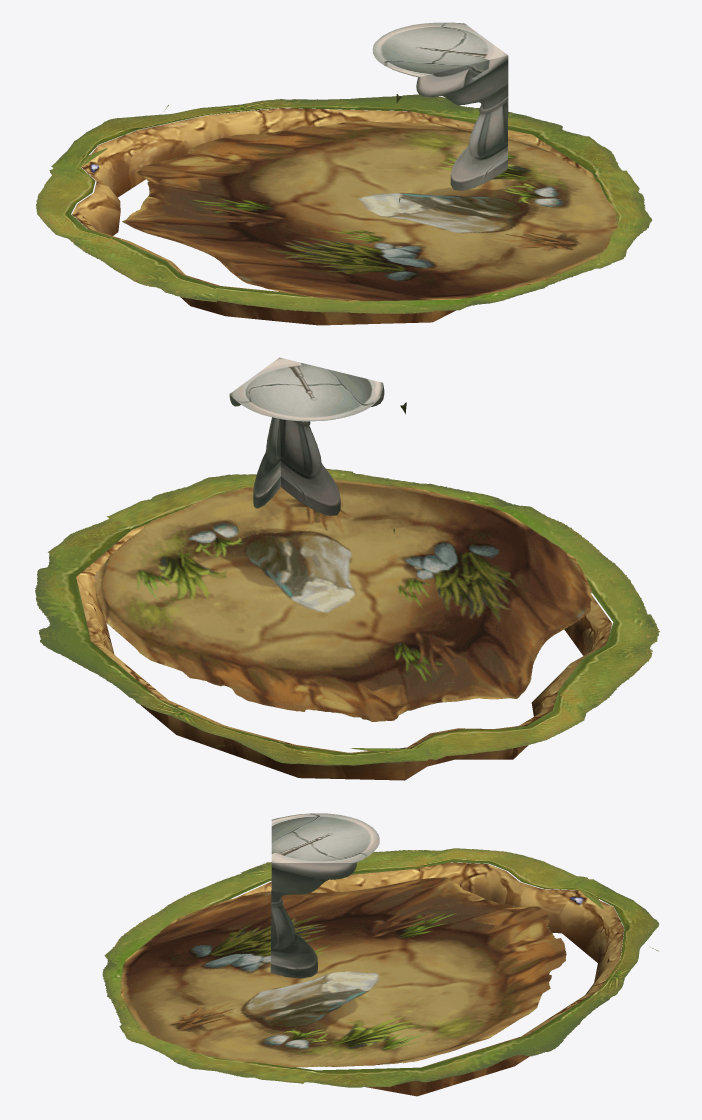
The model's file is K1_water.FBX.
3 renders of one model, top to bottom at view 1: azimuth 30°, elevation 25°; view 2: azimuth 150°, elevation 25°; view 3: azimuth 270°, elevation 25°, orthographic. The views are drawn at different scales.
Visible parts, largest first — view 1: k1_water017, Line023, Line022, ki_water0000; view 2: k1_water017, Line023, ki_water0000, Line022; view 3: k1_water017, Line023, Line022, ki_water0000.
Boxes of the visible parts, box(x1,y1,x2,y2) form: k1_water017: box(122, 105, 619, 301); Line023: box(36, 94, 652, 313); Line022: box(72, 108, 595, 325); ki_water0000: box(372, 22, 508, 201); k1_water017: box(93, 477, 591, 746); Line023: box(35, 468, 659, 765); ki_water0000: box(229, 357, 406, 533); Line022: box(76, 524, 611, 780); k1_water017: box(120, 877, 658, 1067); Line023: box(102, 848, 659, 1087); Line022: box(237, 862, 624, 1096); ki_water0000: box(270, 813, 379, 978).
Bounding box in the file's own units: 6.36 × 2.1 × 6.62.
